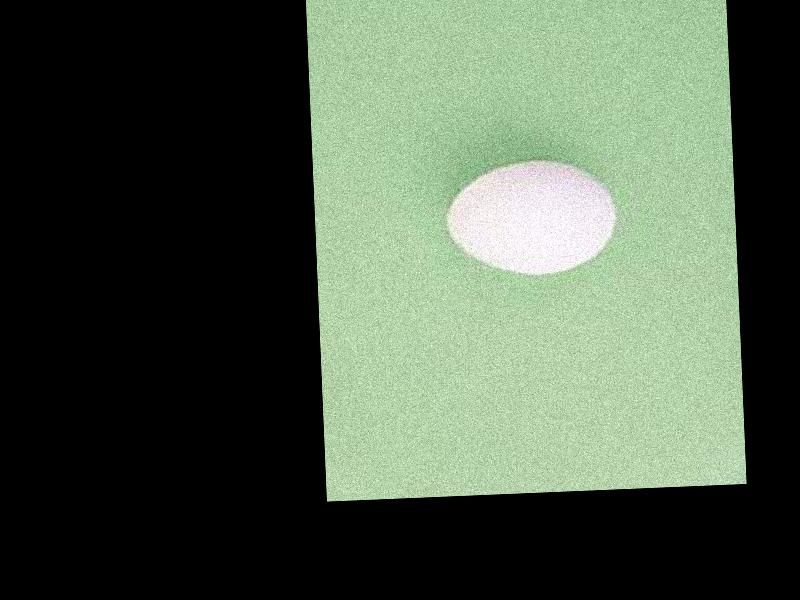Eggs: (444, 155, 620, 278)
